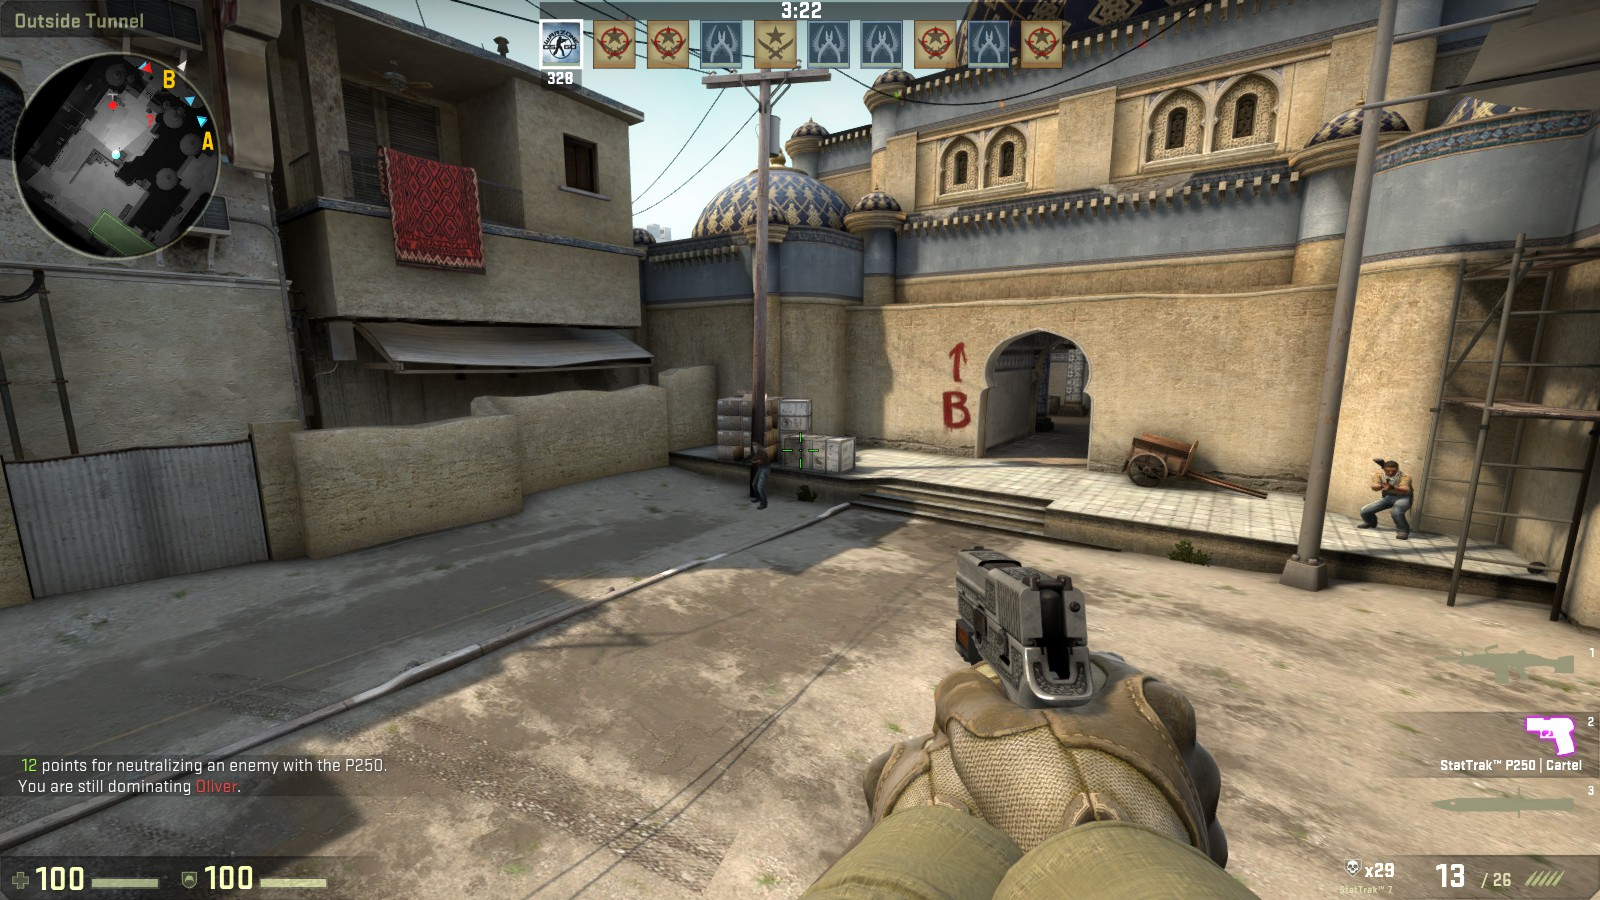t: (1355, 460, 1416, 538), (746, 438, 776, 509)
th: (1382, 458, 1401, 480), (749, 438, 769, 453)
